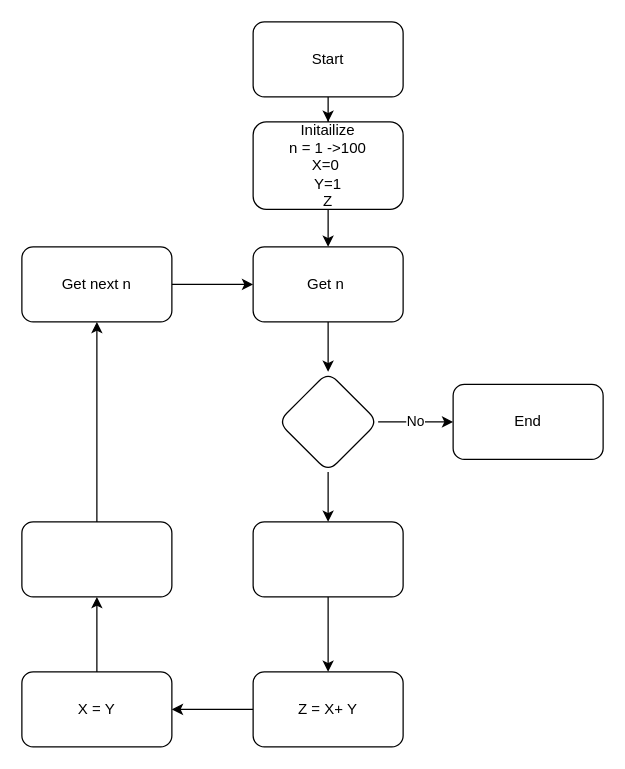
This 625x769 diagram has some shape labels left out. The shapes that lost their labels are listed below. From the top down, each one's centre as x and y in pixels, then its label:
point (327, 421): If N <=100
point (96, 559): Y = Z
point (327, 559): Save on Document Fibonacci number n = X
